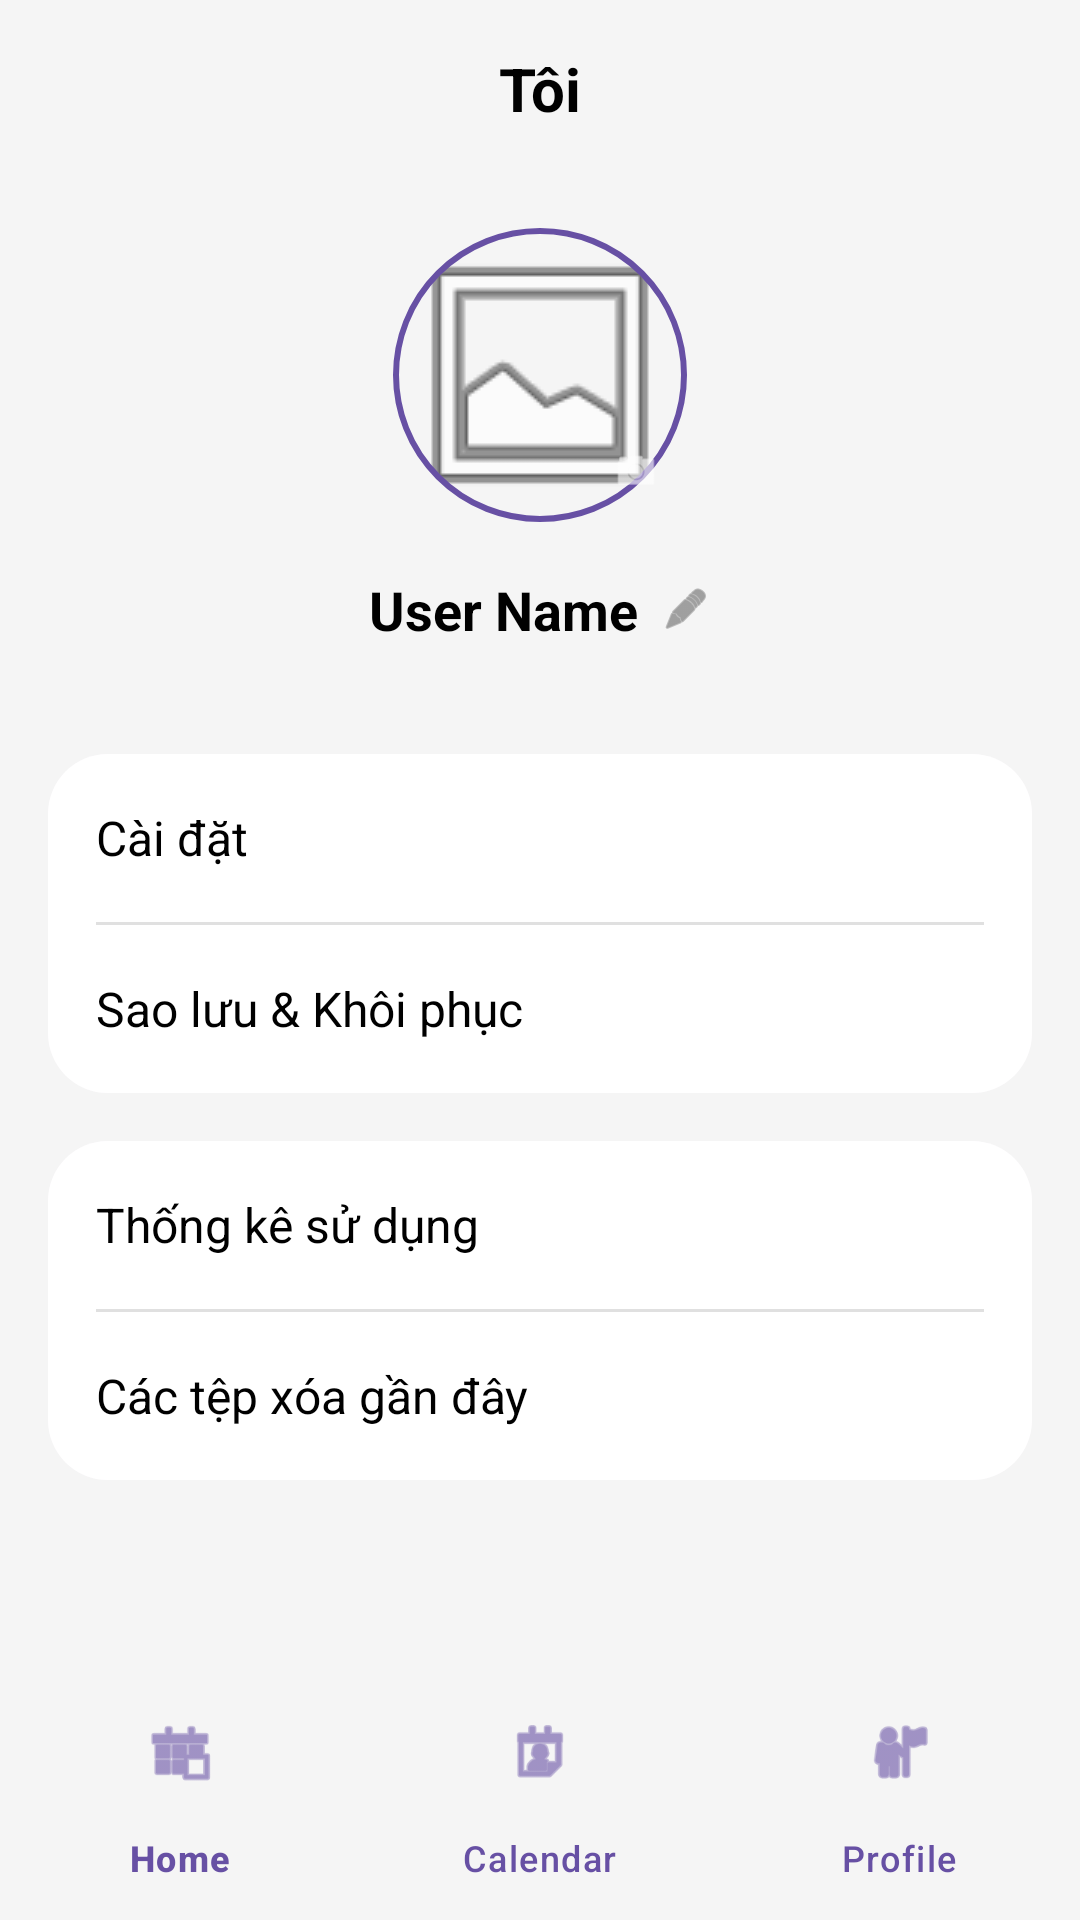

Icons on this 1080w x 1920h Android screen, each with its box as (x1, y1, x2, y2):
edit: (666, 588, 706, 629)
